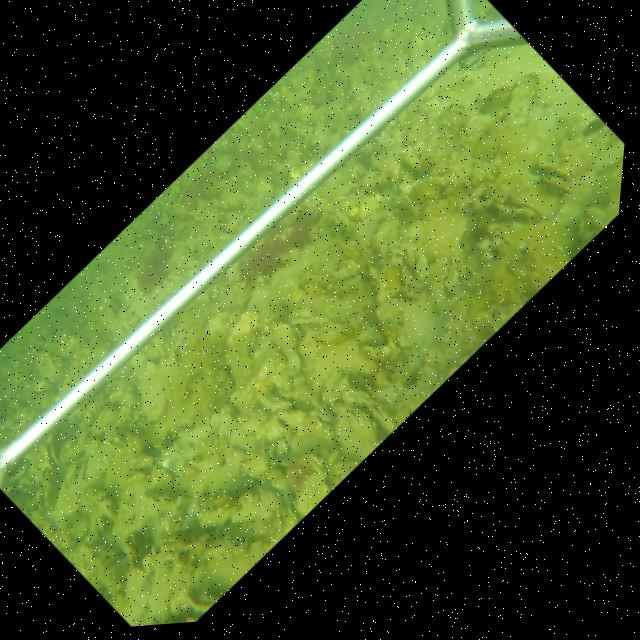Oyster-Closed: (342, 383, 396, 435), (336, 406, 382, 460)
Oyster-Indeterminate: (375, 295, 437, 350), (140, 372, 169, 427)
Oyster-Open: (531, 158, 572, 192), (35, 479, 59, 513)
